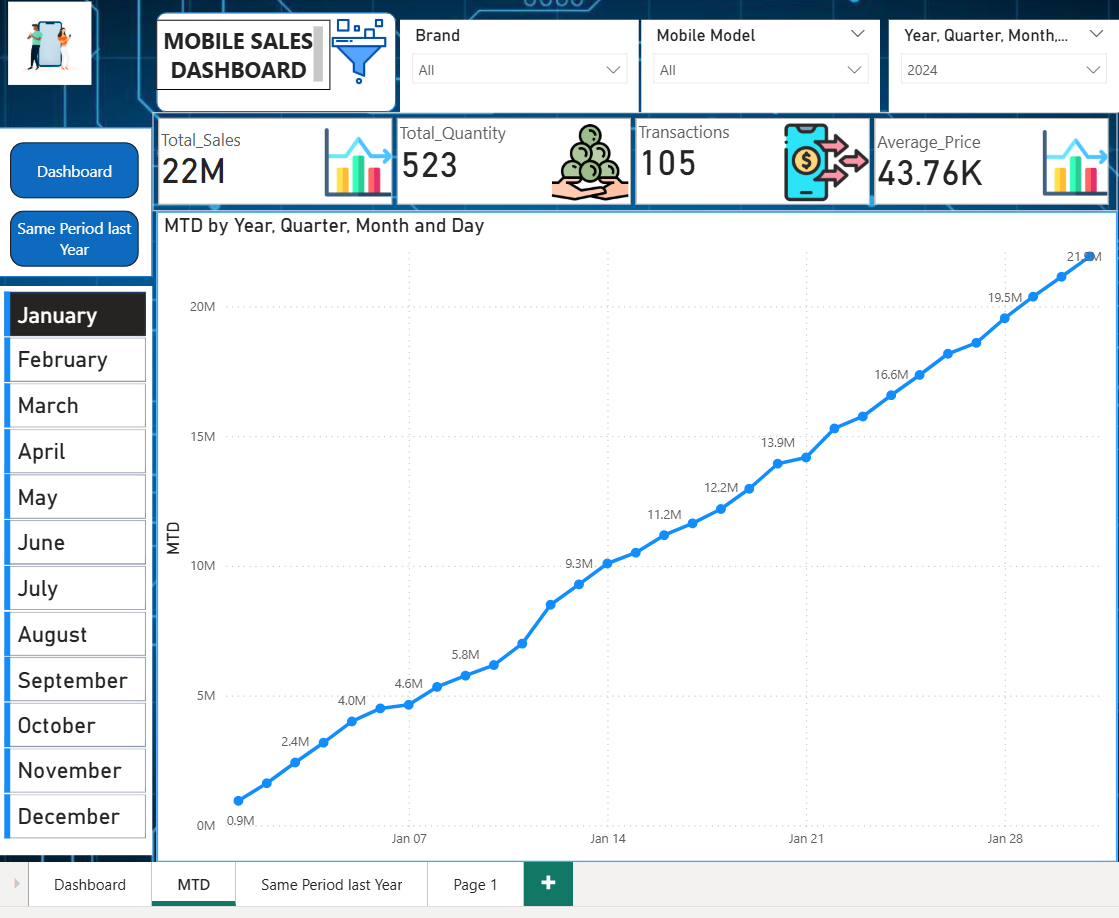

Layout of this report page (visuals, bound fields, positions):
{"tool":"powerbi","page":{"name":"MTD","canvas":[960,740],"ordinal":1},"visuals":[{"type":"shape","box":[137.8,13.9,205.1,85.5],"z":0},{"type":"image","box":[0,0,94,81.2],"z":1000},{"type":"cardVisual","fields":{"Data":["Sales_Data.Total_Sales","Sales_Data.Total_Quantity","Sales_Data.Transactions","Sales_Data.Average_Price"]},"box":[134.6,99.3,824.6,84.4],"z":2000},{"type":"slicer","fields":{"Values":["Sales_Data.Mobile Model"]},"box":[552.2,20.3,204,79],"z":3000},{"type":"slicer","fields":{"Values":["Sales_Data.Brand"]},"box":[346.1,20.3,204,79],"z":4000},{"type":"slicer","fields":{"Values":["Custom_Calendar.Date.Variation.Date Hierarchy.Year","Custom_Calendar.Date.Variation.Date Hierarchy.Quarter","Custom_Calendar.Date.Variation.Date Hierarchy.Month","Custom_Calendar.Date.Variation.Date Hierarchy.Day"]},"box":[763.7,20.3,196.5,79],"z":5000},{"type":"image","box":[270.3,13.5,82.1,67.6],"z":6000},{"type":"textbox","box":[138.3,20.8,148.7,60.3],"z":7000},{"type":"lineChart","fields":{"Y":["Sales_Data.MTD"],"Category":["Custom_Calendar.Date.Variation.Date Hierarchy.Year","Custom_Calendar.Date.Variation.Date Hierarchy.Quarter","Custom_Calendar.Date.Variation.Date Hierarchy.Month","Custom_Calendar.Date.Variation.Date Hierarchy.Day"]},"box":[137.8,183.7,821.4,556.5],"z":8000},{"type":"advancedSlicerVisual","fields":{"Values":["Custom_Calendar.Date.Variation.Date Hierarchy.Month"]},"box":[3.2,247.8,131.4,486],"z":9000},{"type":"shape","box":[0,112.2,134.6,128.2],"z":9500},{"type":"pageNavigator","box":[12.8,125,110,107.9],"z":10000}]}

Visuals, with their boxes on the page's 960x740 design canvas (x1, y1, x2, y2). These are canvas units, not pixel positions in the 1119x918 screenshot, which may show the page scaled, cropped or inside an application window:
shape: locate(138, 14, 343, 99)
image: locate(0, 0, 94, 81)
cardVisual - Sales_Data.Total_Sales x Sales_Data.Total_Quantity: locate(135, 99, 959, 184)
slicer - Sales_Data.Mobile Model: locate(552, 20, 756, 99)
slicer - Sales_Data.Brand: locate(346, 20, 550, 99)
slicer - Custom_Calendar.Date.Variation.Date Hierarchy.Year x Custom_Calendar.Date.Variation.Date Hierarchy.Quarter: locate(764, 20, 960, 99)
image: locate(270, 14, 352, 81)
textbox: locate(138, 21, 287, 81)
lineChart - Sales_Data.MTD x Custom_Calendar.Date.Variation.Date Hierarchy.Year: locate(138, 184, 959, 740)
advancedSlicerVisual - Custom_Calendar.Date.Variation.Date Hierarchy.Month: locate(3, 248, 135, 734)
shape: locate(0, 112, 135, 240)
pageNavigator: locate(13, 125, 123, 233)
